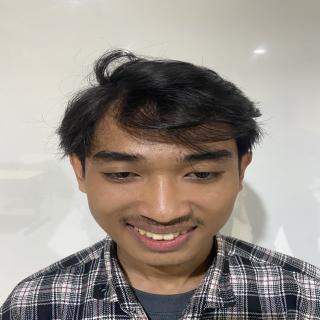Senang: (79, 106, 255, 270)
